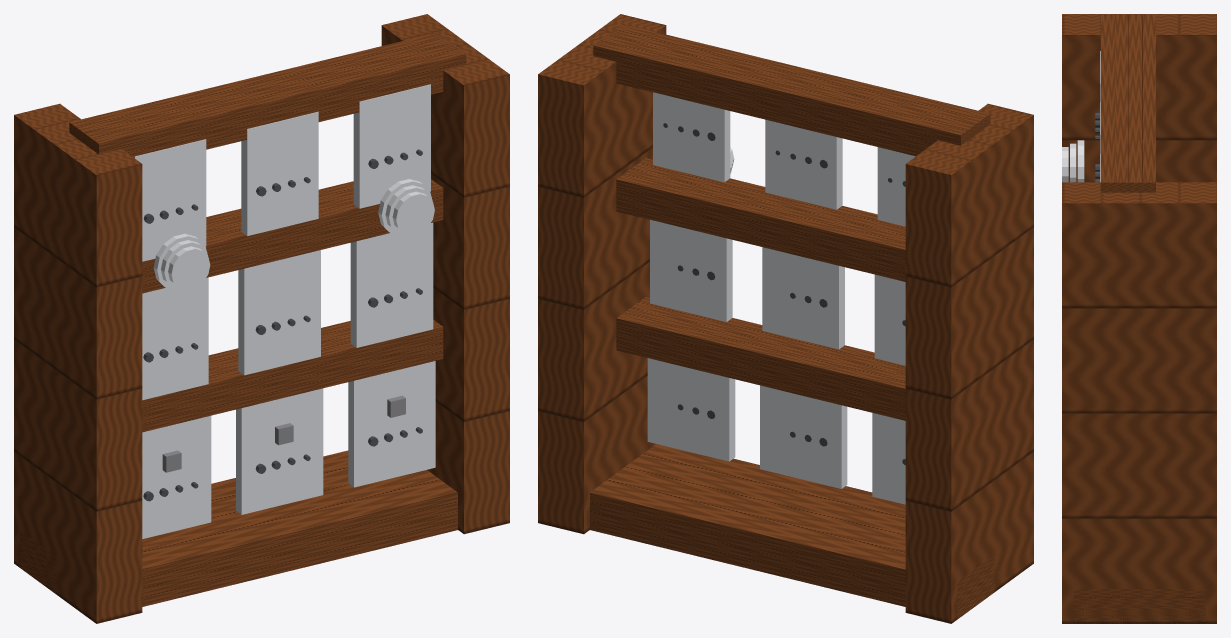
File: blacksmith-forge-and-armoury-blacksmith-forge-and-armo-f130331f__37588.glb
3 renders of one model, left to right at view 1: azimuth 30°, elevation 25°; view 2: azimuth 150°, elevation 25°; view 3: azimuth 270°, elevation 25°, orthographic. The views are drawn at different scales.
Visible parts, largest first — view 1: blacksmith-forge-and-armoury-wire-die-rack; view 2: blacksmith-forge-and-armoury-wire-die-rack; view 3: blacksmith-forge-and-armoury-wire-die-rack.
Boxes of the visible parts, bbox=[...] form: blacksmith-forge-and-armoury-wire-die-rack: bbox=[14, 14, 509, 623]; blacksmith-forge-and-armoury-wire-die-rack: bbox=[538, 14, 1033, 623]; blacksmith-forge-and-armoury-wire-die-rack: bbox=[1062, 14, 1216, 623].
Bounding box in the file's own units: 0.81 × 0.86 × 0.28.
Materials: 4 (1 with a texture image).
